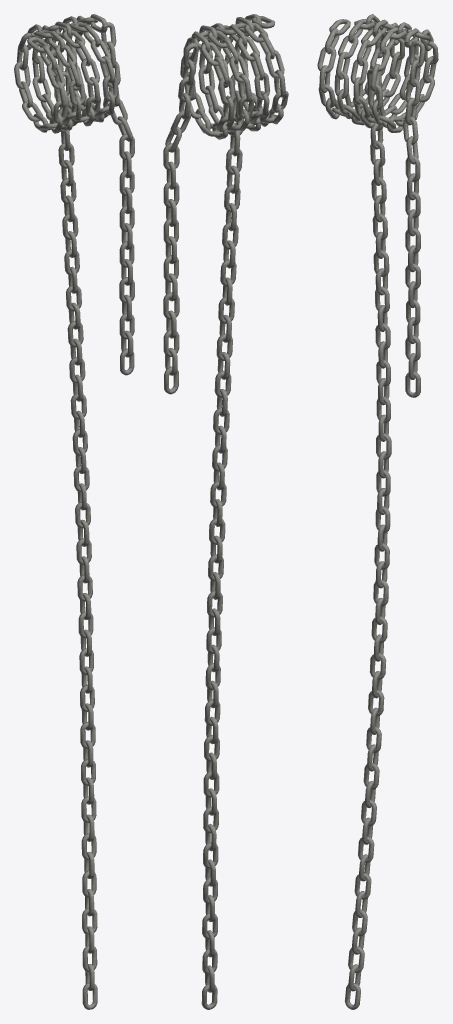
File: chain.glb
3 renders of one model, left to right at view 1: azimuth 30°, elevation 25°; view 2: azimuth 210°, elevation 25°; view 3: azimuth 330°, elevation 25°, orthographic. The views are drawn at different scales.
Visible parts, largest first — view 1: Chain_Wrapped_links, Chain_Clean_links; view 2: Chain_Wrapped_links, Chain_Clean_links; view 3: Chain_Wrapped_links, Chain_Clean_links.
Boxes of the visible parts, x1,y1,x2,y2 form: Chain_Wrapped_links: (14,14,134,375); Chain_Clean_links: (55,71,97,1009); Chain_Wrapped_links: (163,14,288,394); Chain_Clean_links: (201,72,245,1009); Chain_Wrapped_links: (317,14,438,397); Chain_Clean_links: (344,68,391,1009).
Size of the model in its own units: 0.1288 by 1.25 by 0.1313.
Materials: 1 (1 with a texture image).
